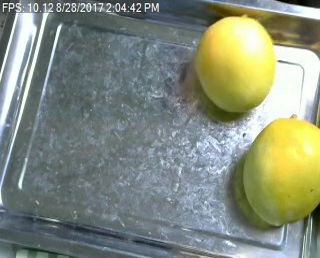Mango: (233, 112, 320, 231), (190, 10, 277, 114)
